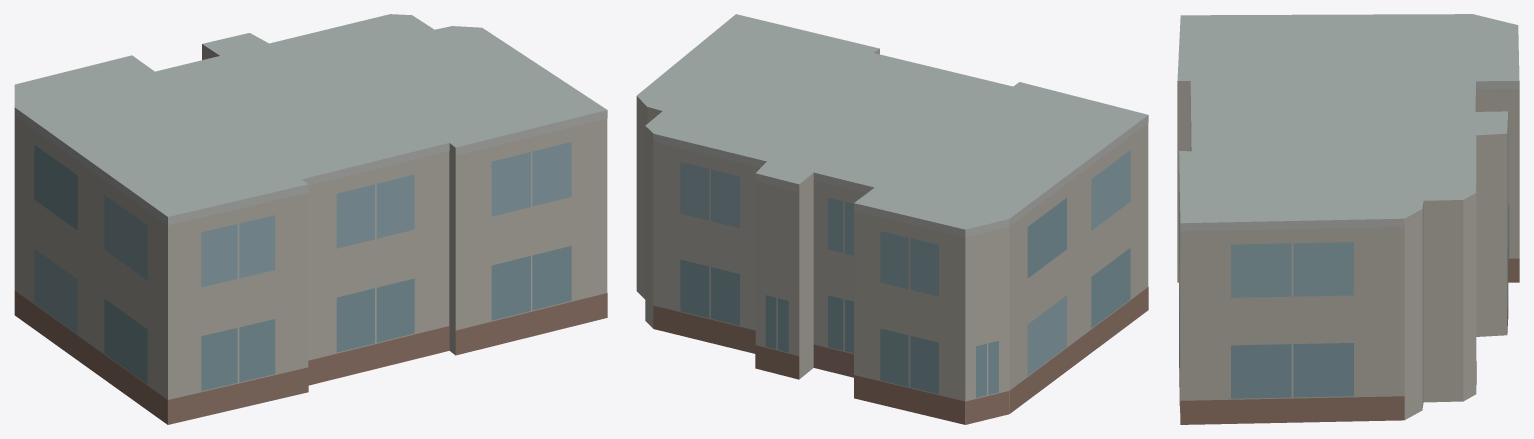
Rendered from survey-upis-32971486.glb.
The picture shows the model from 3 angles, left to right: view 1: azimuth 30°, elevation 25°; view 2: azimuth 150°, elevation 25°; view 3: azimuth 270°, elevation 25°; orthographic projection. The views are drawn at different scales.
Parts seen in each view (by area): view 1: survey-upis-32971486.tmp; view 2: survey-upis-32971486.tmp; view 3: survey-upis-32971486.tmp.
Boxes of the visible parts, bbox=[...] form: survey-upis-32971486.tmp: bbox=[14, 14, 607, 424]; survey-upis-32971486.tmp: bbox=[636, 14, 1148, 424]; survey-upis-32971486.tmp: bbox=[1177, 14, 1519, 424].
Bounding box in the file's own units: 13.58 × 6.1 × 9.39.
